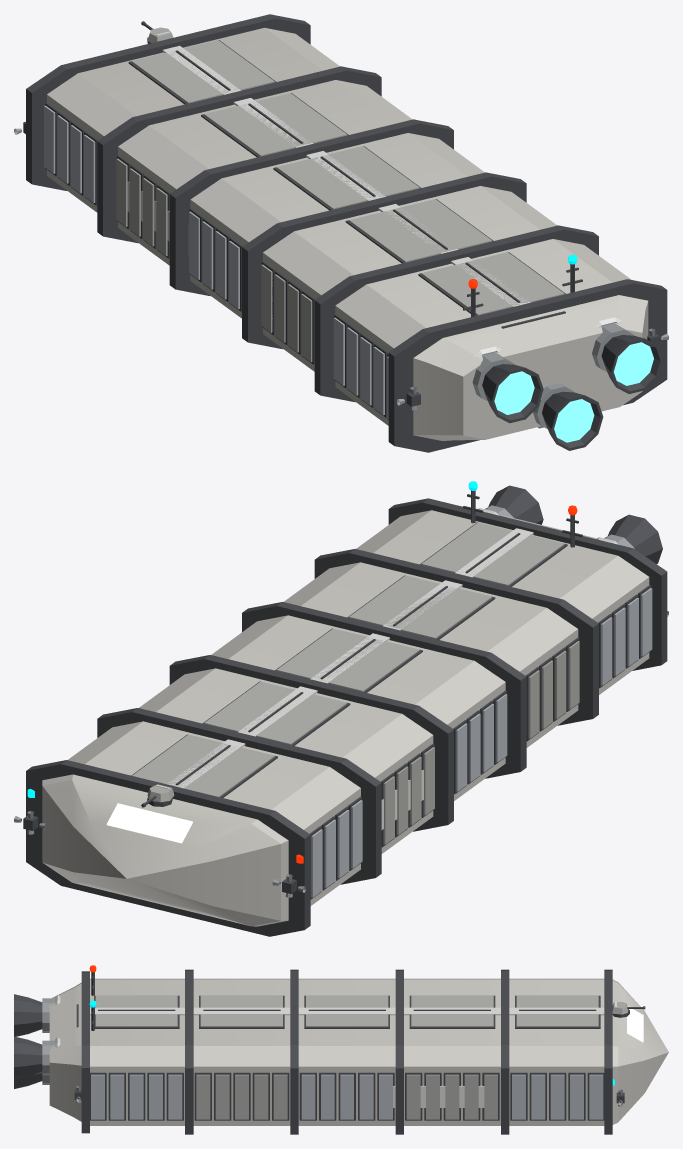
The model's file is behemoth.glb.
3 renders of one model, top to bottom at view 1: azimuth 30°, elevation 25°; view 2: azimuth 150°, elevation 25°; view 3: azimuth 270°, elevation 25°, orthographic. The views are drawn at different scales.
Visible parts, largest first — view 1: Hull; view 2: Hull; view 3: Hull, Turret_8.
Boxes of the visible parts, bbox=[...] form: Hull: bbox=[14, 14, 668, 452]; Hull: bbox=[14, 481, 668, 936]; Hull: bbox=[14, 965, 668, 1134]; Turret_8: bbox=[612, 1002, 645, 1017].
Bounding box in the file's own units: 0.74 × 0.3824 × 2.
